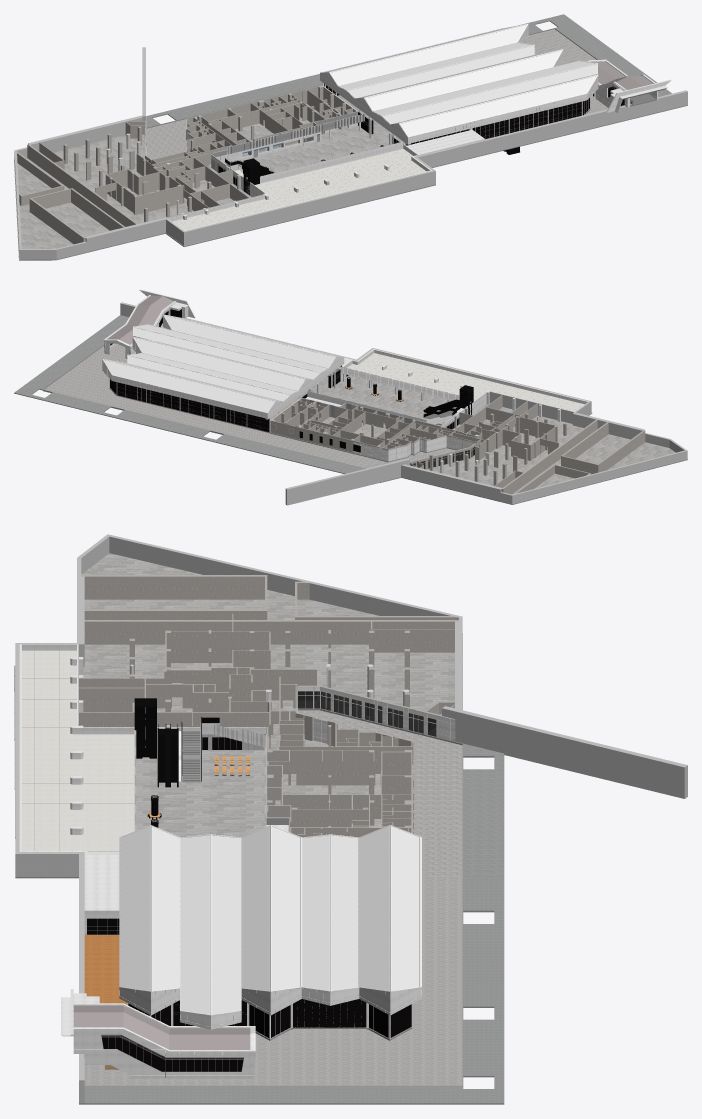
The model's file is station-b1.glb.
3 renders of one model, top to bottom at view 1: azimuth 30°, elevation 25°; view 2: azimuth 150°, elevation 25°; view 3: azimuth 270°, elevation 25°, orthographic. The views are drawn at different scales.
Visible parts, largest first — view 1: Node; view 2: Node; view 3: Node.
Boxes of the visible parts, <box> form: Node: <box>14,14,687,260</box>; Node: <box>14,289,687,505</box>; Node: <box>14,534,687,1104</box>.
Size of the model in its own units: 219 by 17.58 by 113.
18 materials, 18 textured.
